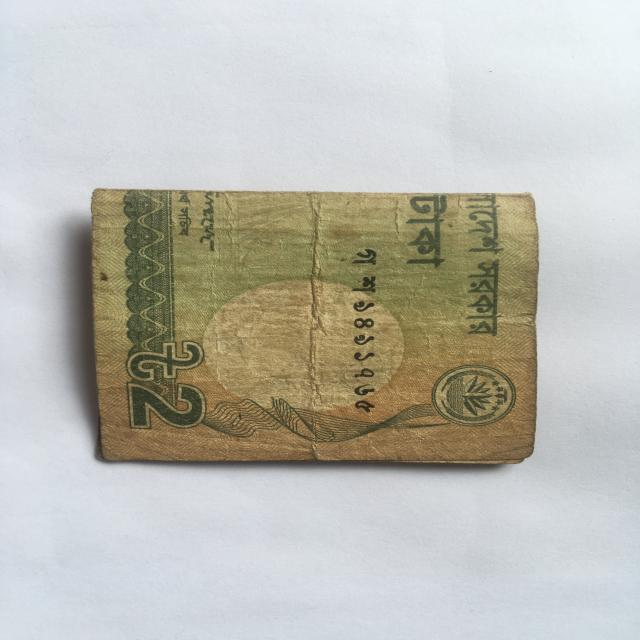Taka: (85, 179, 556, 466)
